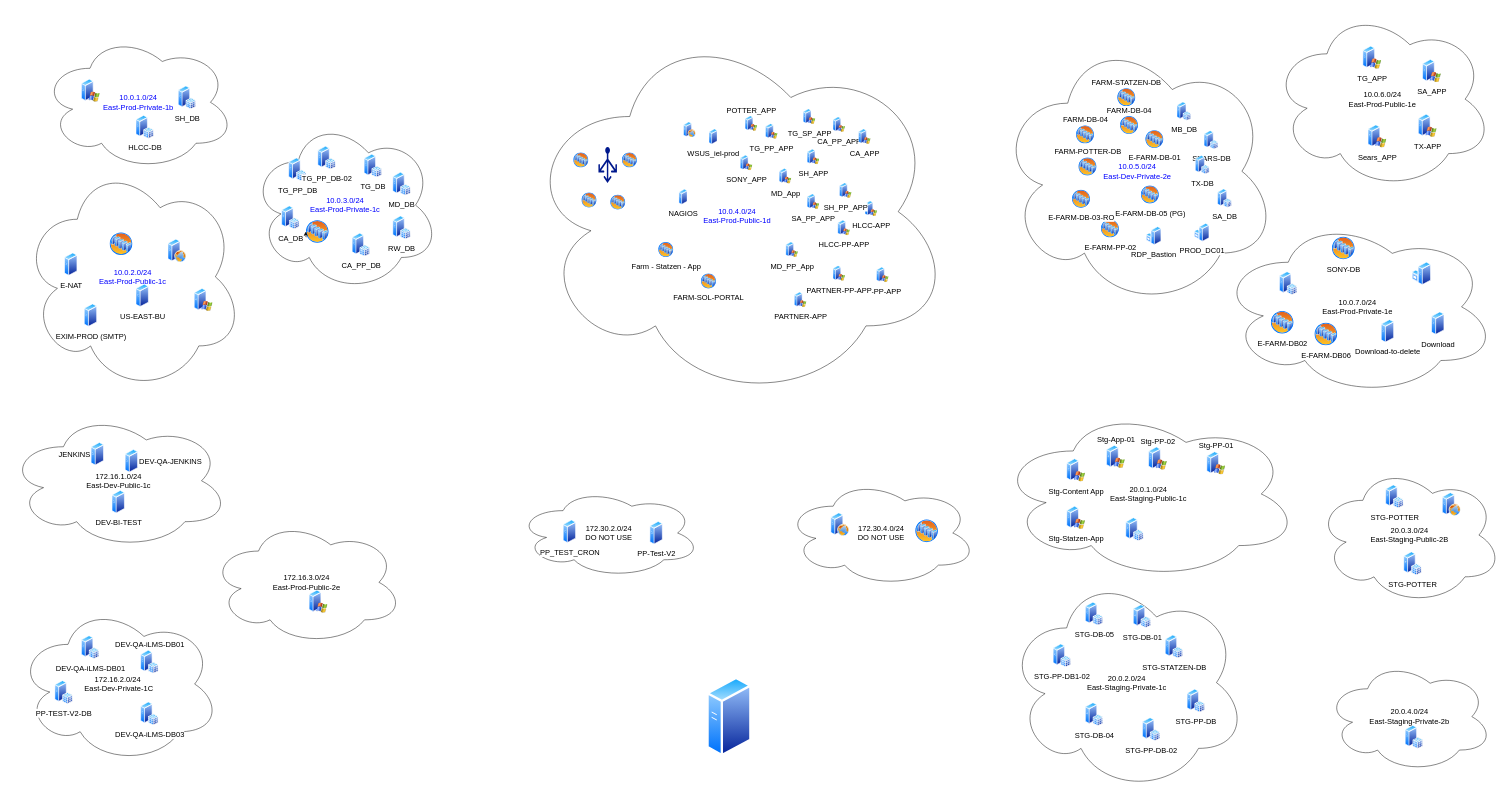
Some shapes in this 1511 by 800 pixel diagram are drawn without their labels. Here are the shapes that lost their labels. From the top down, the centre of each, then its label:
point (90, 90): MB_App
point (689, 129): www.redirect
point (607, 165): APP-01 TO APP-04
point (121, 243): E-FARM-PP-APP
point (177, 250): RW-APP
point (317, 231): E-FARM-PP-DB
point (1288, 283): PARTNER-DB
point (1421, 273): PROD_DC02
point (203, 299): CONTENT
point (839, 524): Farm_Shopping-Cart
point (1451, 504): STG_APP
point (926, 531): FARM-PP-SHORT
point (1134, 529): STAGING_PP-DB2
point (318, 601): DEV-QA-iLMS-APP
point (729, 716): EXIM4 (SMTP-TEST) 10.183.218.158 54-166-78-232
point (1414, 737): STG-DB-02
